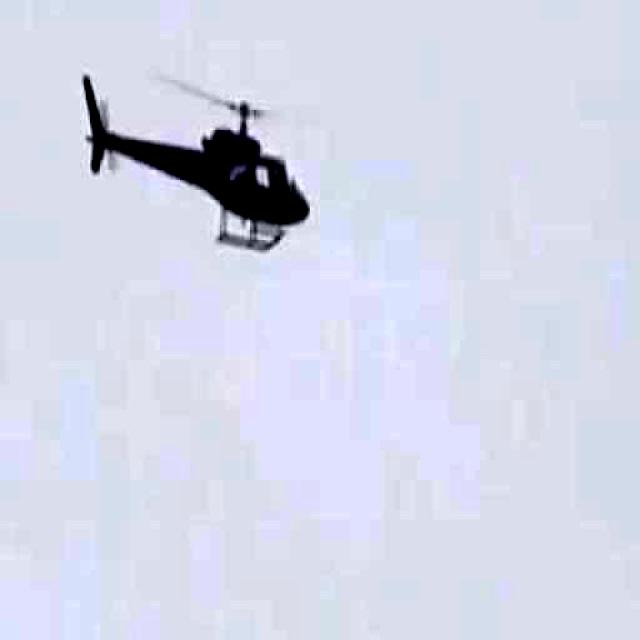drone: (61, 42, 319, 292)
